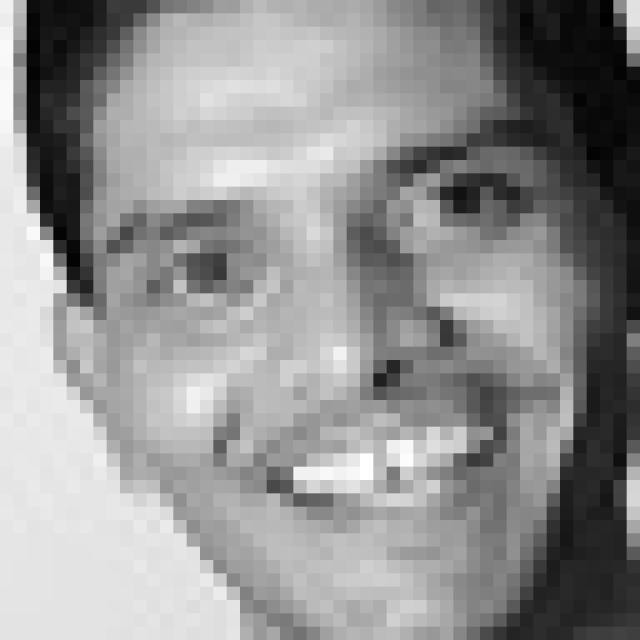happy: (98, 116, 576, 557)
